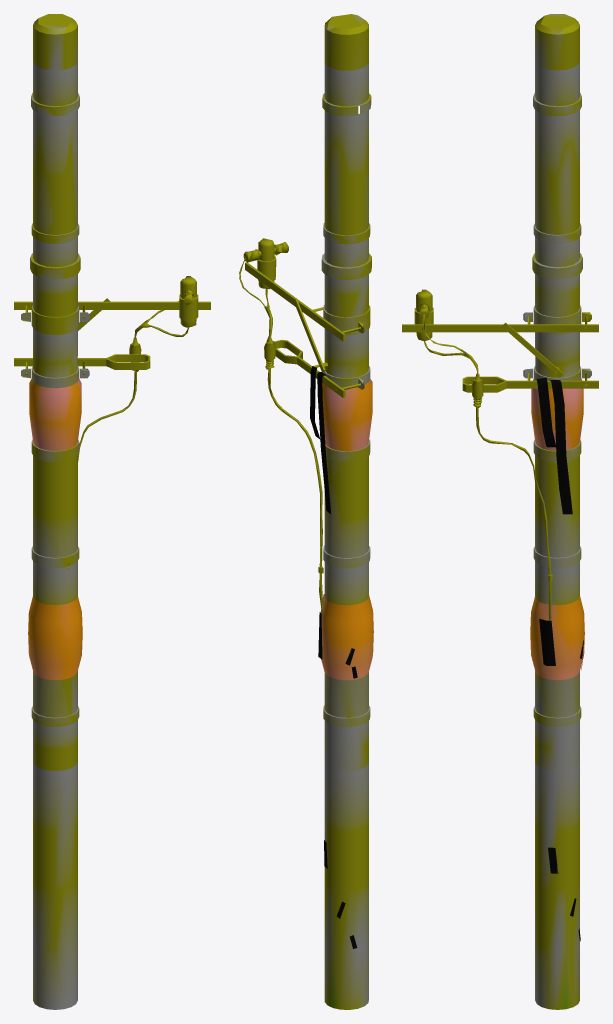
The model's file is SM_ENV_LKNVLD_UtilityPole_B_Lod3.gltf.
3 views of the same model, side by side, from view 1: azimuth 90°, elevation 25°; view 2: azimuth 210°, elevation 25°; view 3: azimuth 270°, elevation 25° (orthographic).
Parts seen in each view (by area): view 1: SM_ENV_LKNVLD_UtilityPole_B_Lod3; view 2: SM_ENV_LKNVLD_UtilityPole_B_Lod3; view 3: SM_ENV_LKNVLD_UtilityPole_B_Lod3.
Part boxes in pixels (<box>): SM_ENV_LKNVLD_UtilityPole_B_Lod3: <box>14,14,210,1009</box>; SM_ENV_LKNVLD_UtilityPole_B_Lod3: <box>239,14,373,1009</box>; SM_ENV_LKNVLD_UtilityPole_B_Lod3: <box>402,14,598,1009</box>.
Bounding box in the file's own units: 0.8259 × 11.72 × 2.13.
